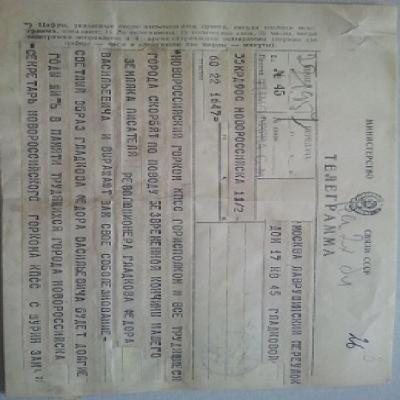document: (0, 0, 400, 394)
